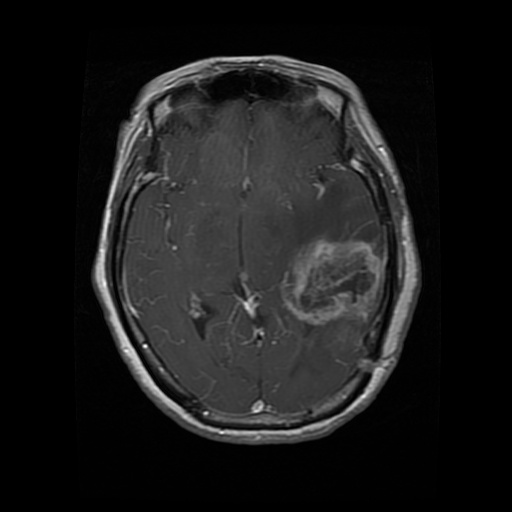glioma: (279, 236, 383, 323)
